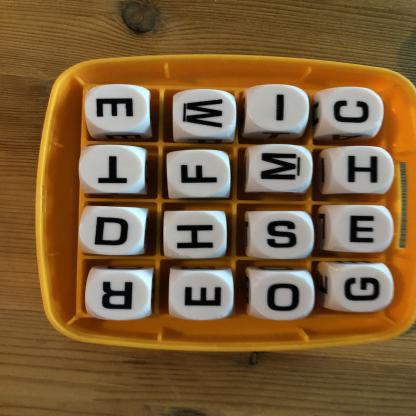c: (320, 86, 383, 133)
d: (81, 208, 148, 256)
e: (83, 87, 153, 133), (172, 272, 234, 318), (331, 206, 392, 252)
f: (167, 151, 229, 198)
g: (332, 266, 396, 312)
h: (165, 213, 228, 259), (332, 148, 393, 195)
i: (248, 87, 309, 137)
m: (250, 147, 315, 194)
o: (252, 272, 314, 318)
r: (87, 271, 152, 319)
s: (249, 213, 312, 257)
t: (83, 147, 148, 193)
w: (173, 93, 233, 138)
